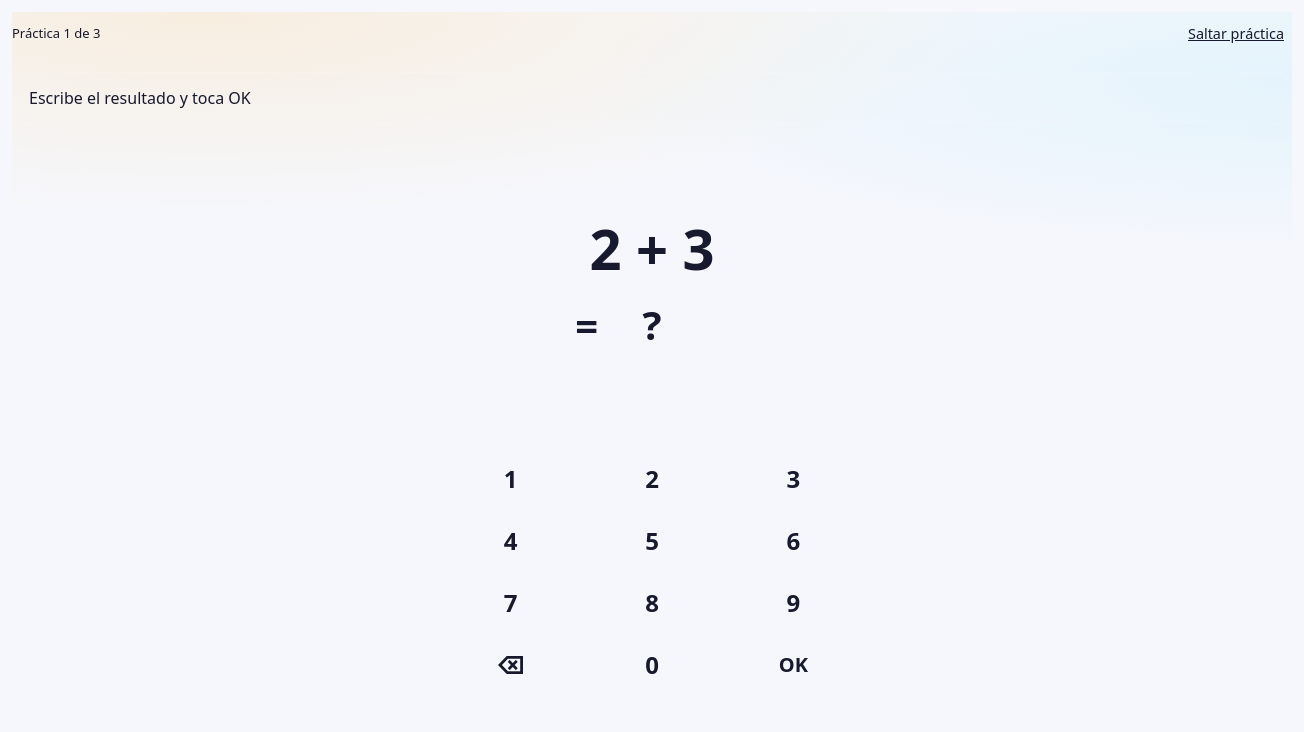
Test: typing 5 + OK, 3 + Enter, then Saltar completes once
Expected: the text with test id "problem" reads "2 + 3", left=589, top=210, right=715, bottom=286
Expected: the text "Escribe el resultado y toca OK" is shown, left=12, top=72, right=1292, bottom=124
Click the button "5" at (652, 541), box left=585, top=514, right=719, bottom=568
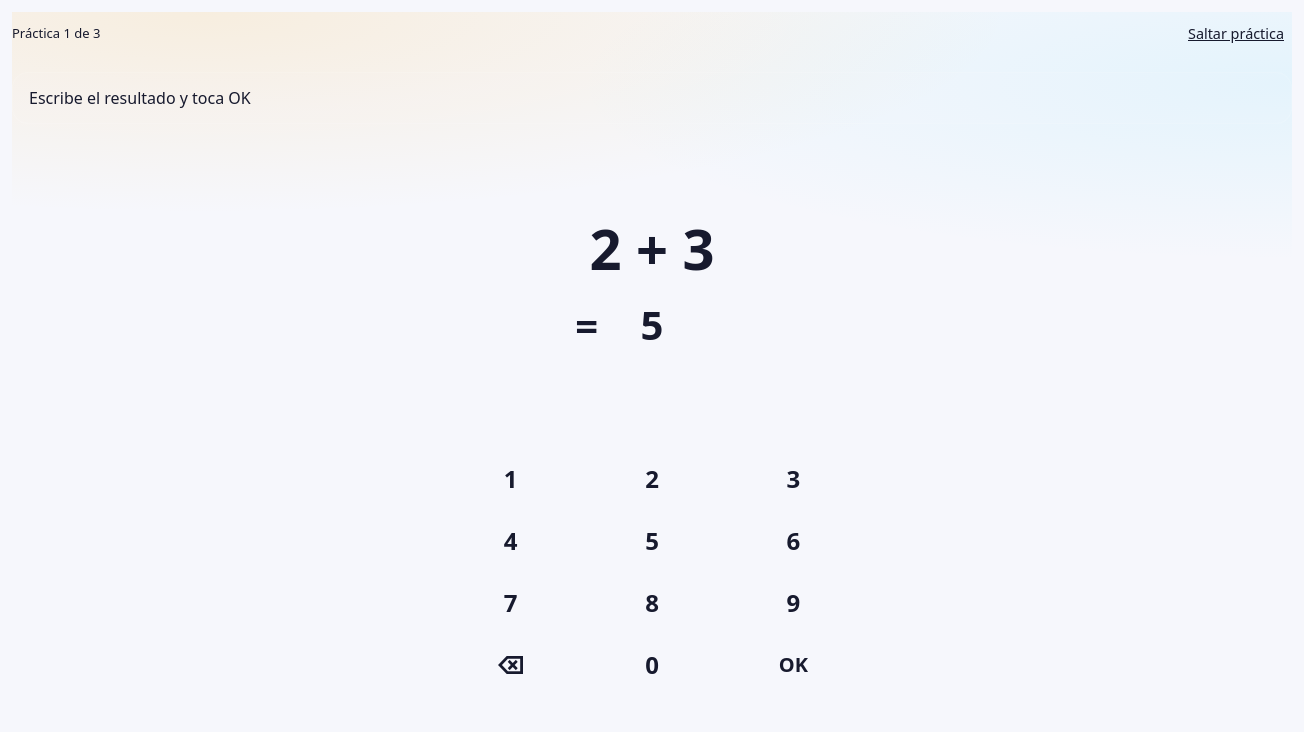
Click the button "OK" at (793, 665), box left=727, top=638, right=860, bottom=692
Wait 700 ms
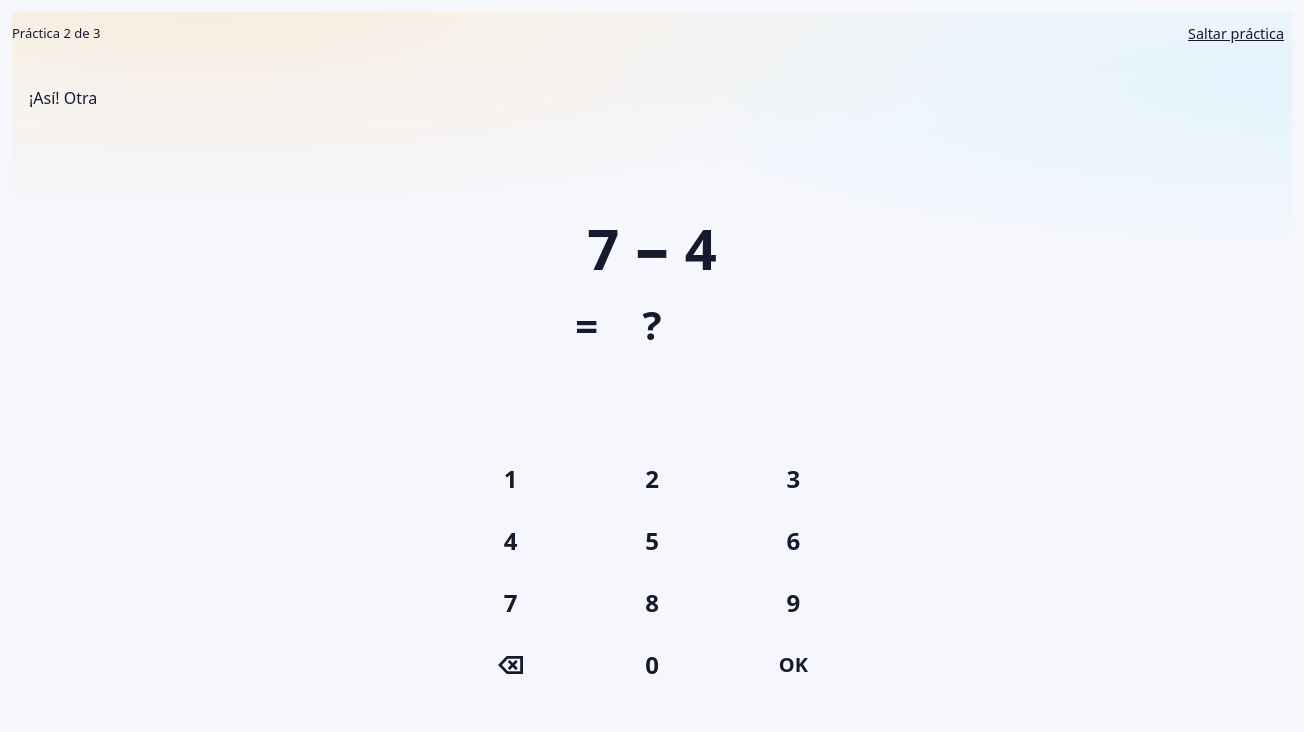
Expected: the text with test id "problem" reads "7 − 4", left=587, top=210, right=717, bottom=286
Press 3
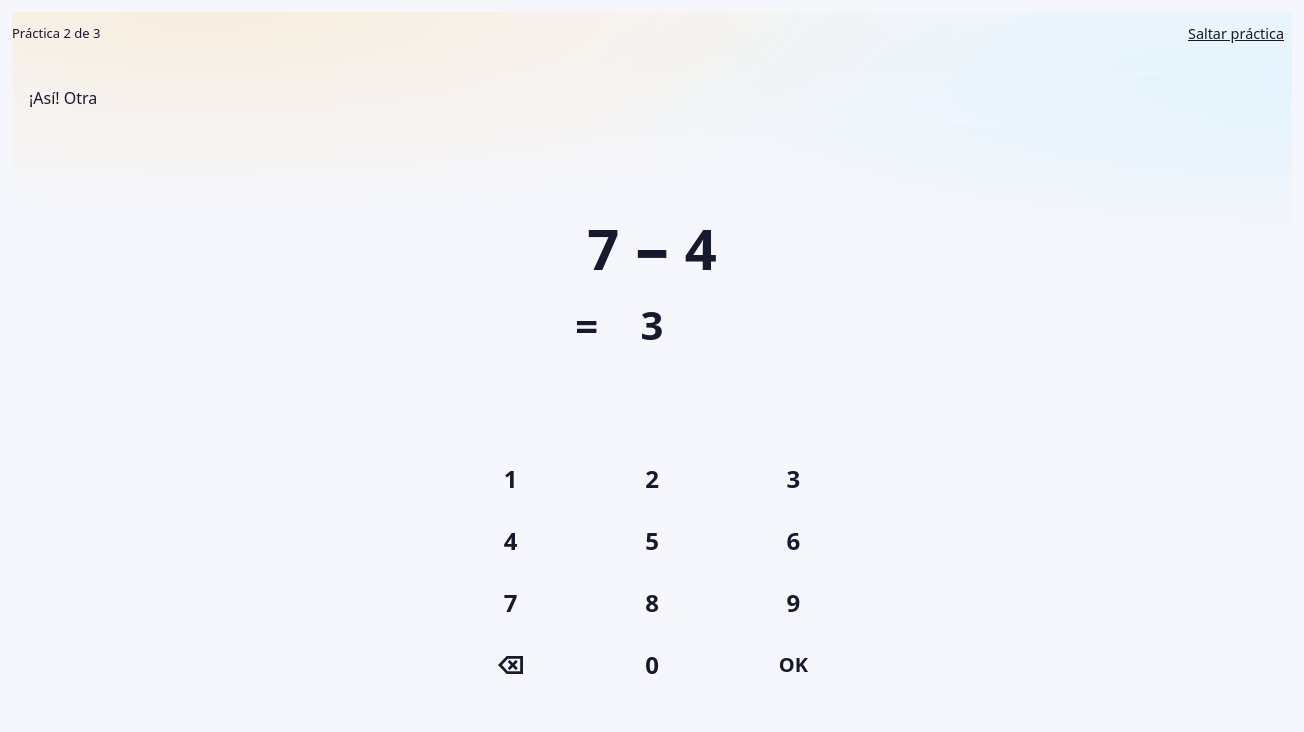
Press Enter
Wait 700 ms
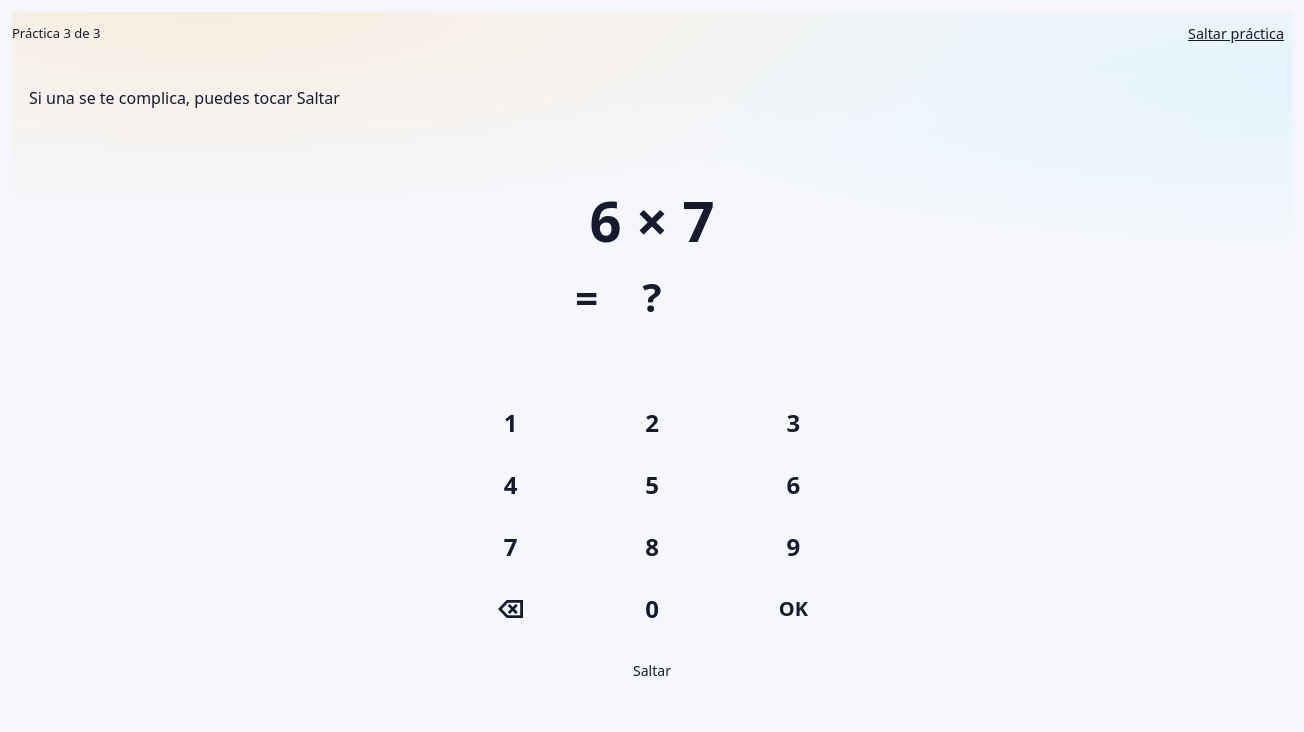
Expected: the text with test id "problem" reads "6 × 7", left=589, top=182, right=715, bottom=258
Expected: the text "Si una se te complica, puedes tocar Saltar" is shown, left=12, top=72, right=1292, bottom=124
Click the button "Saltar" at (652, 670), box left=613, top=648, right=691, bottom=692
Wait 700 ms
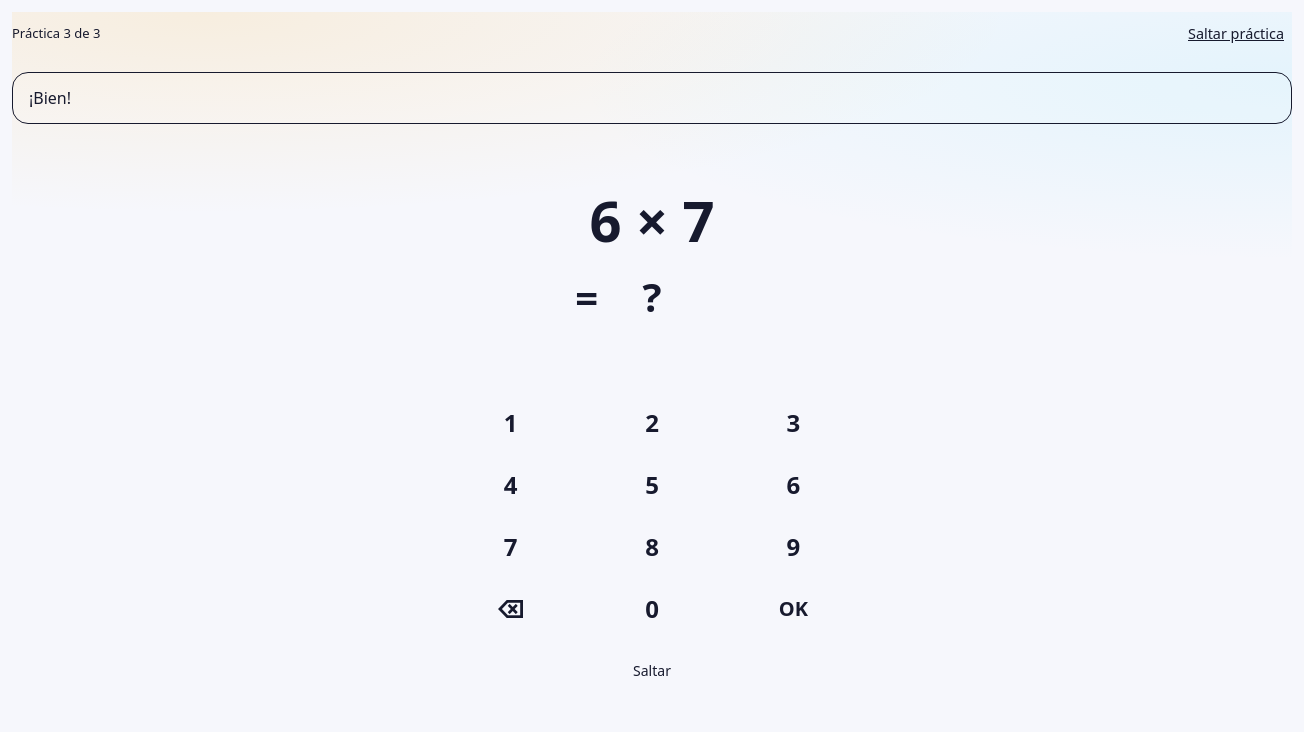
Expected: the text "¡Bien!" is shown, left=12, top=72, right=1292, bottom=124
